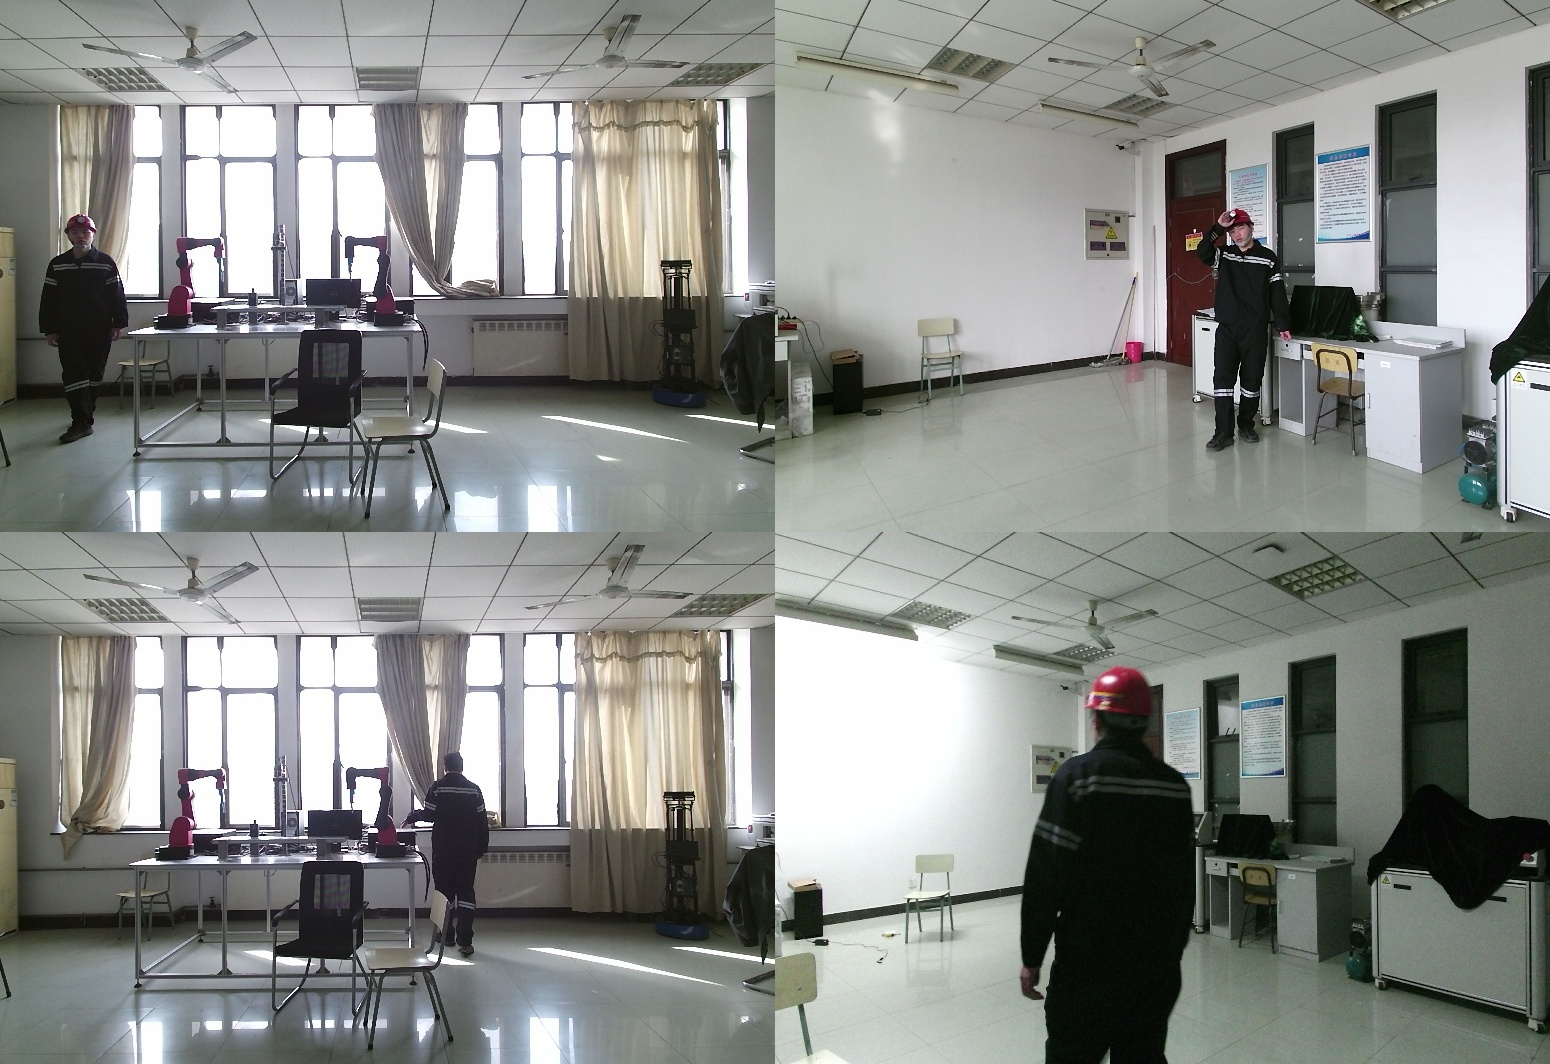person: (1021, 667, 1217, 1064), (1200, 210, 1298, 450), (37, 216, 129, 443), (404, 749, 496, 966)
